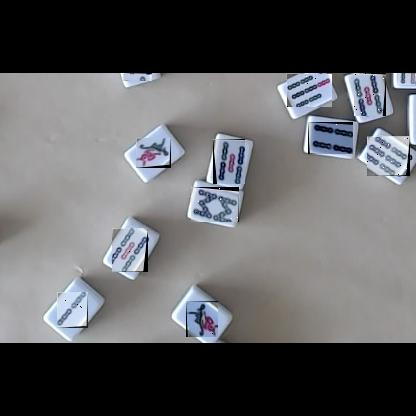1s: (186, 301, 218, 337), (136, 138, 171, 168)
2s: (57, 292, 88, 328)
3s: (123, 73, 152, 81)
4s: (308, 122, 353, 154)
5s: (112, 228, 148, 272), (213, 139, 245, 184), (354, 73, 386, 116)
6s: (367, 136, 410, 176)
7s: (286, 73, 332, 107)
8s: (191, 187, 239, 222)
9s: (398, 73, 416, 85)
